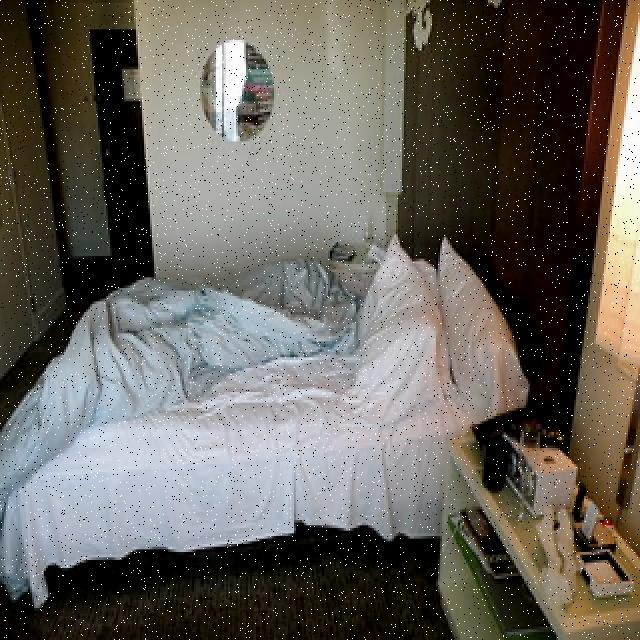bed: (5, 212, 503, 507)
